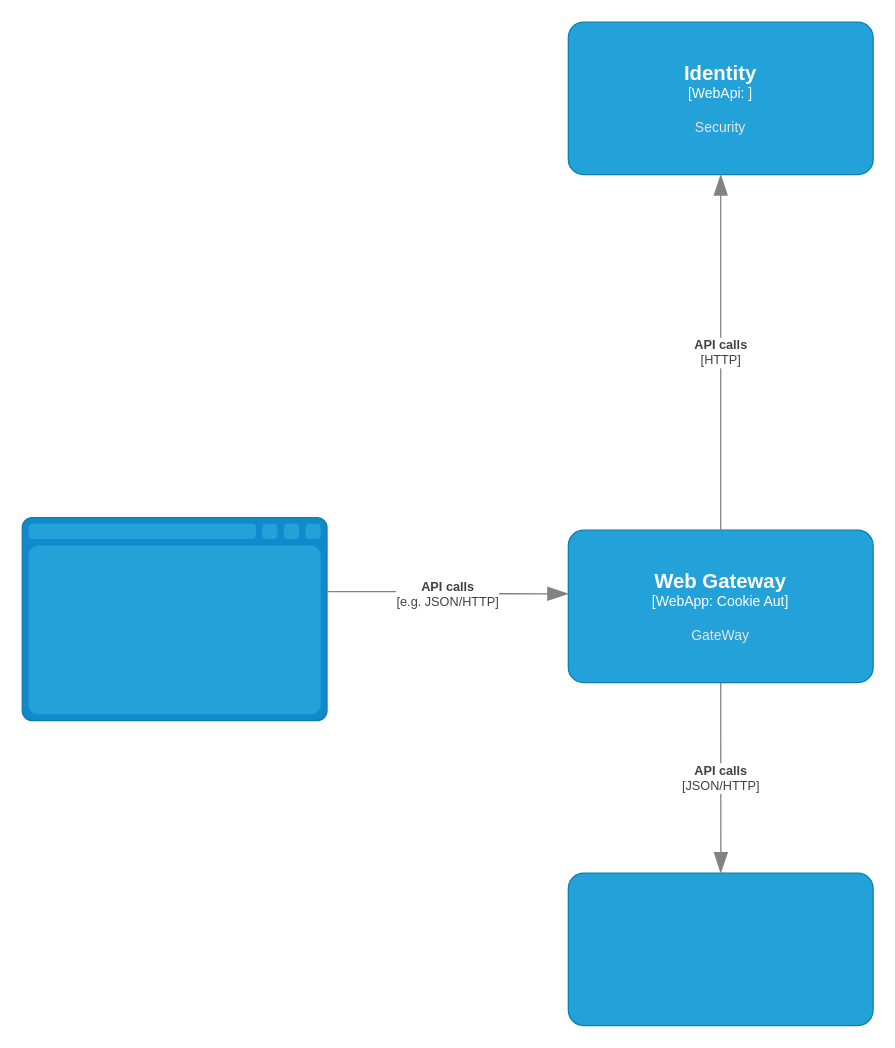
Some shapes in this 895 by 1048 pixel diagram are drawn without their labels. The shapes that lost their labels are listed below. From the top down, each one's centre as x and y in pixels, then its label:
pixel 174 618: Web Appliction [React: javascript] Browser Client
pixel 720 949: BackEndApi [WebApi: JWT Aut] Resource Web Api
